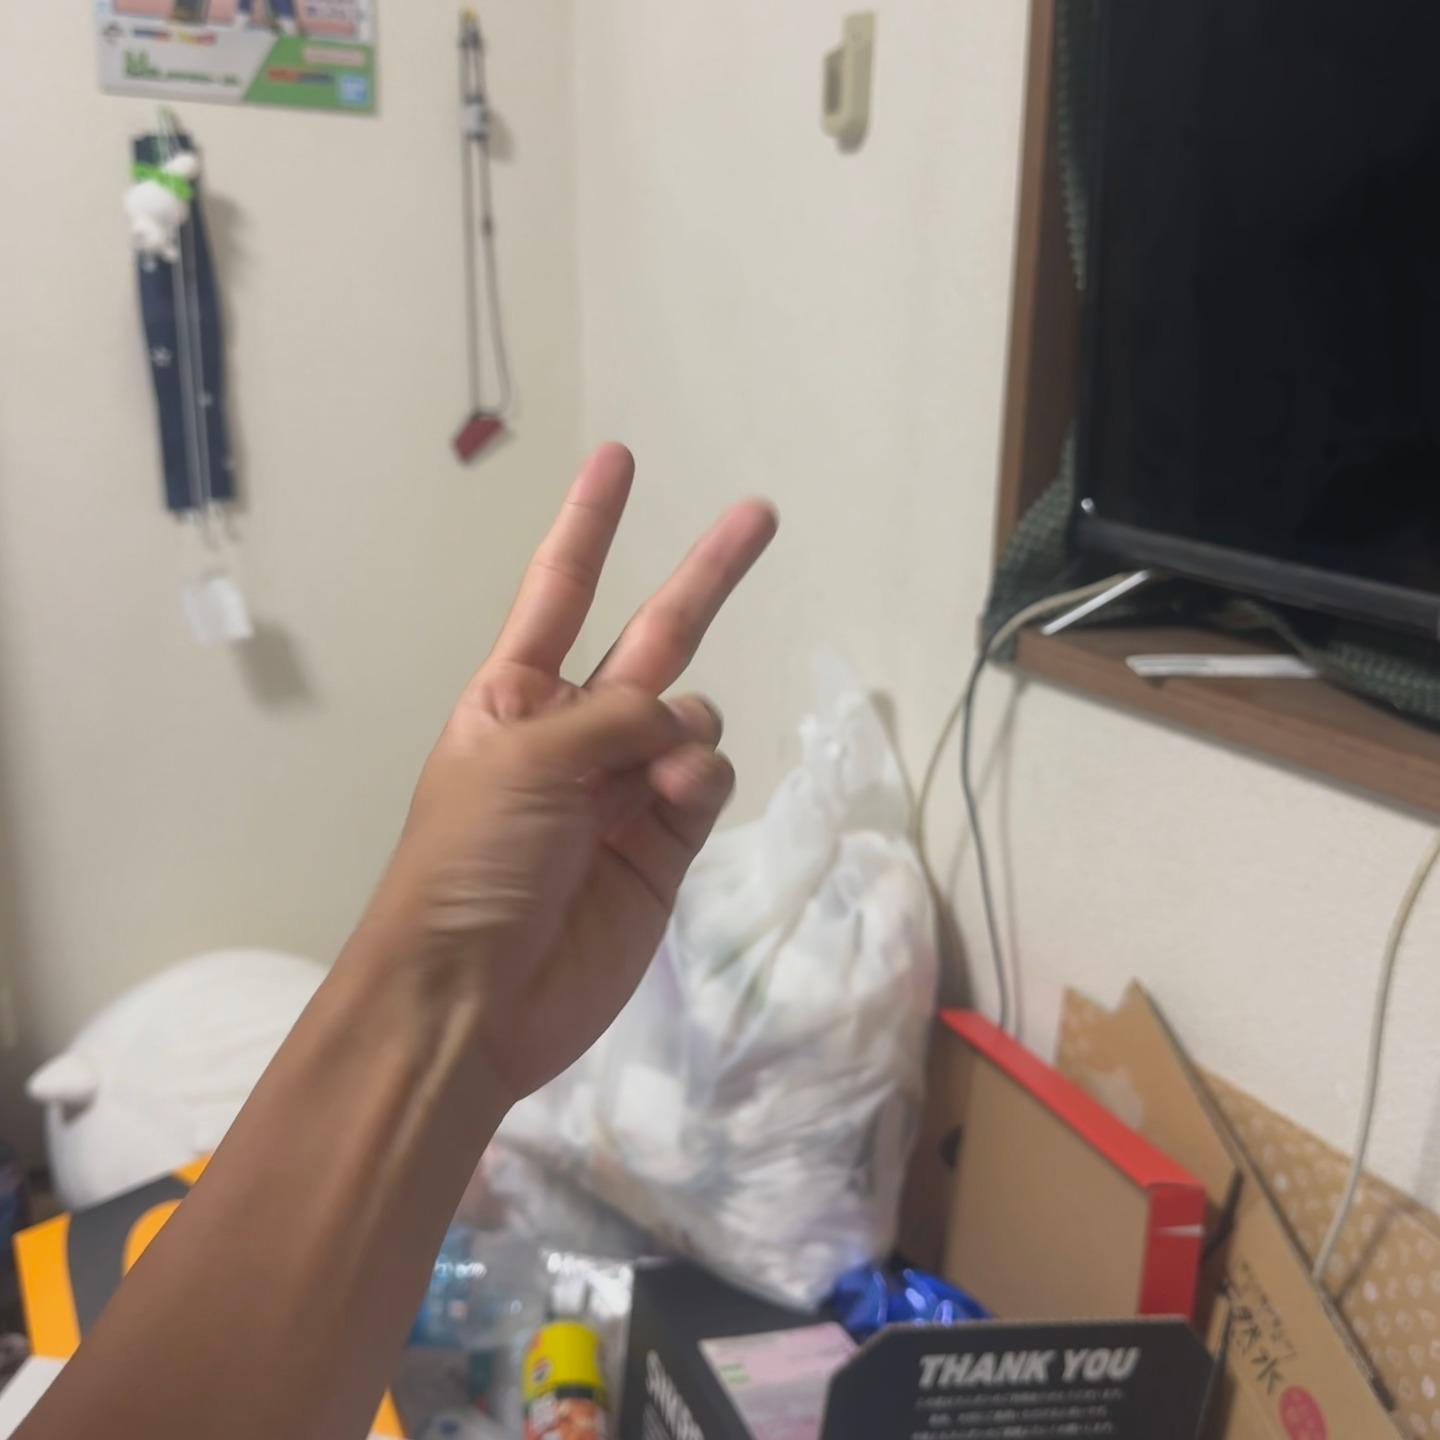without_gloves: (290, 320, 897, 1316)
